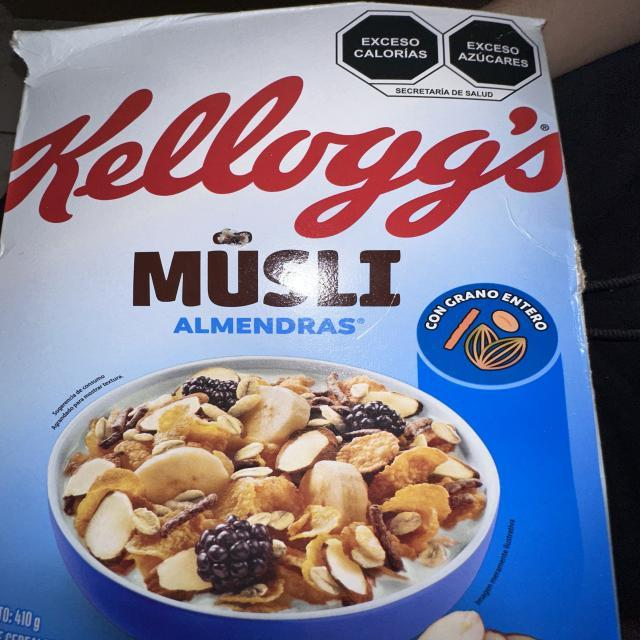hidden camera: (229, 237, 241, 244)
